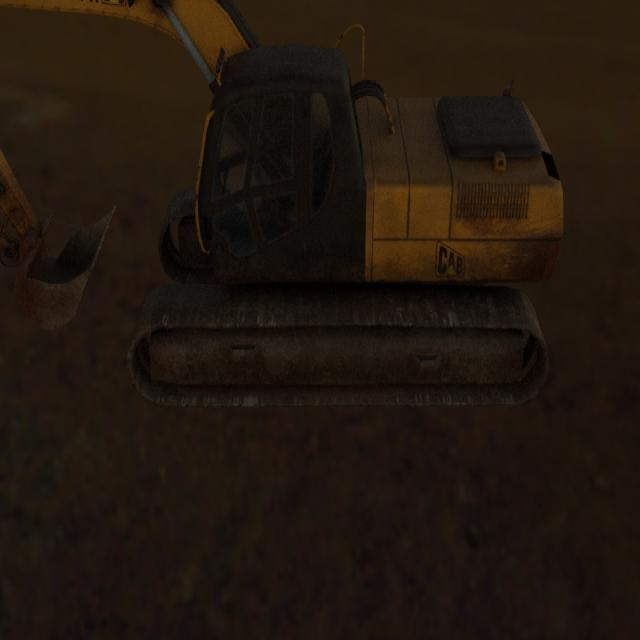excavator: (0, 0, 564, 408)
